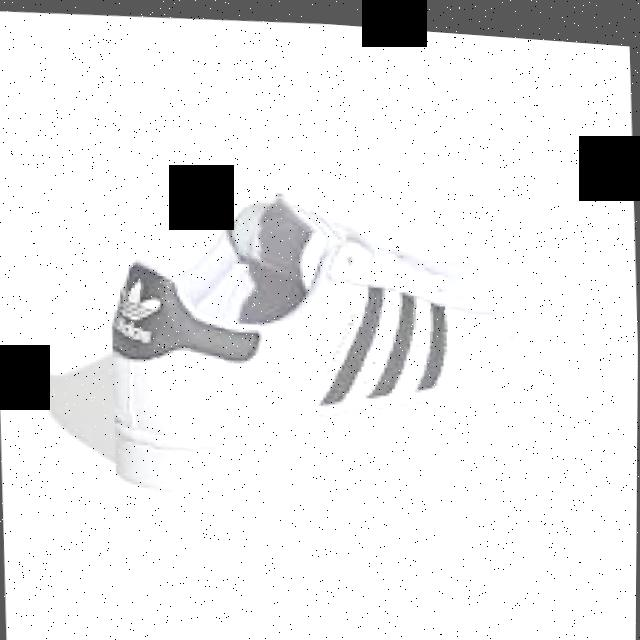shoe: (106, 168, 536, 514)
